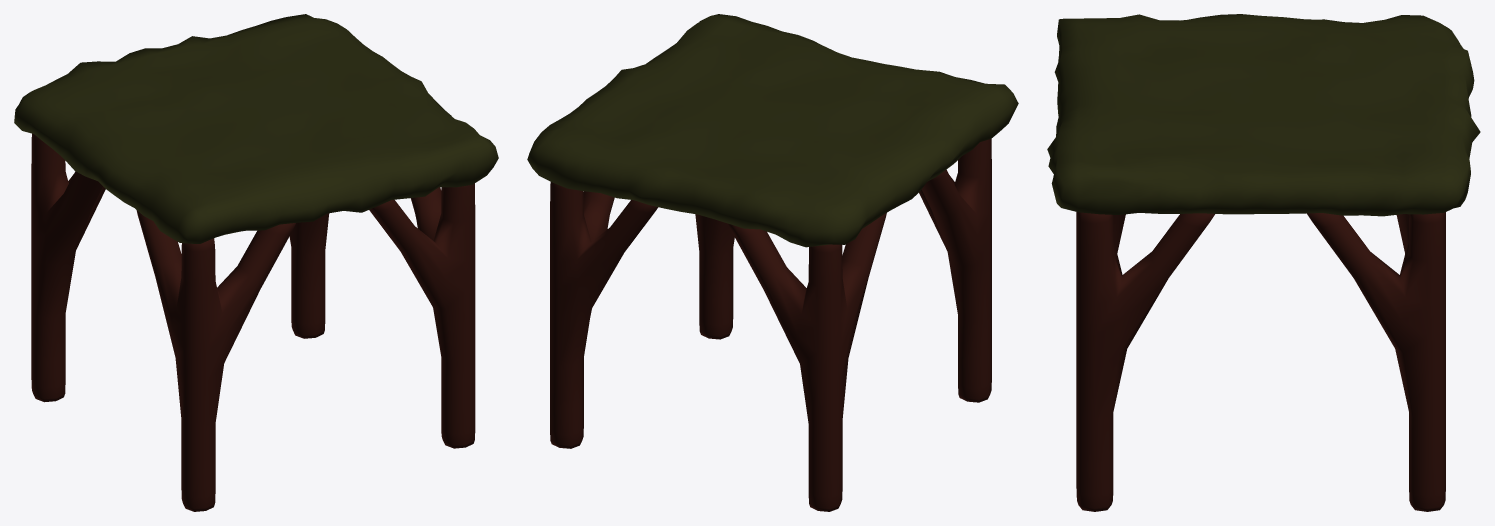
The model's file is Plattform.FBX.
3 renders of one model, left to right at view 1: azimuth 30°, elevation 25°; view 2: azimuth 150°, elevation 25°; view 3: azimuth 270°, elevation 25°, orthographic. The views are drawn at different scales.
Visible parts, largest first — view 1: Box1000; view 2: Box1000; view 3: Box1000.
Part boxes in pixels (left/top/right/bottom): Box1000: left=14, top=14, right=498, bottom=511; Box1000: left=527, top=14, right=1018, bottom=511; Box1000: left=1047, top=14, right=1480, bottom=511.
Bounding box in the file's own units: 115 × 117 × 103.
